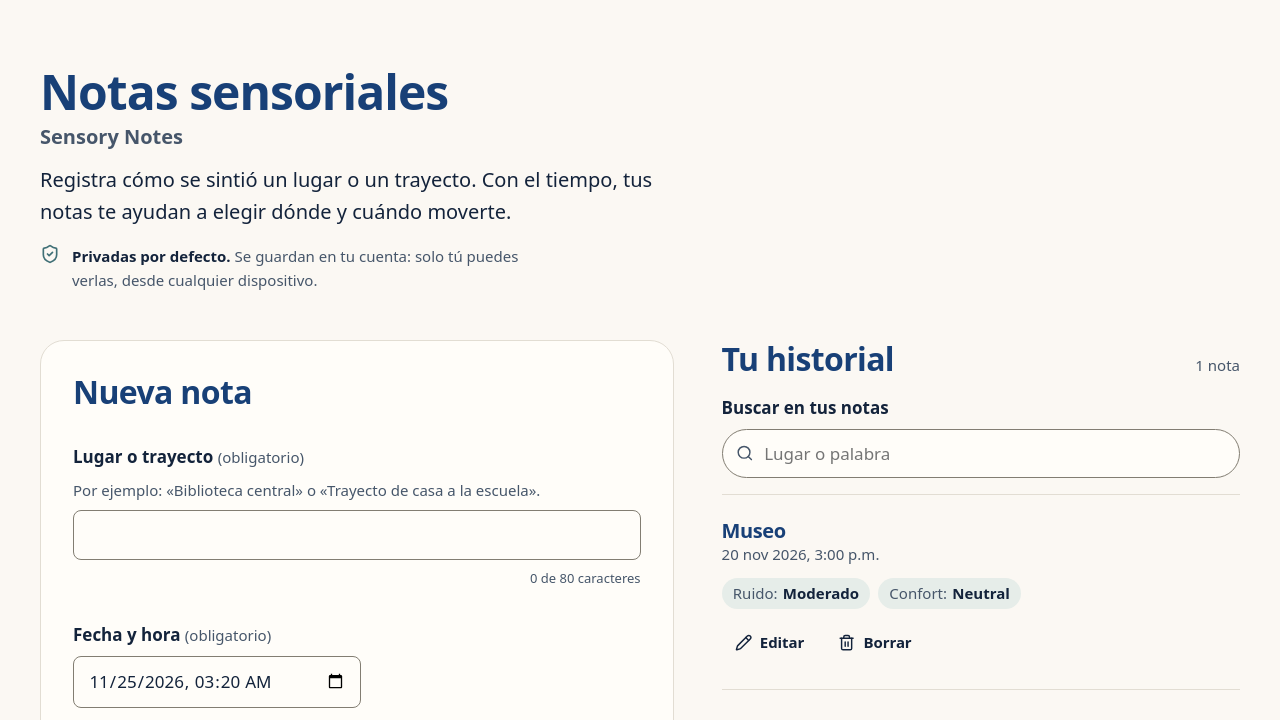
Test: Cuentas (API) › notas con sesión: editar envía PUT a la API
Click the button with aria-label "Editar la nota de Museo": (769,642) [722,620,817,664]
(page scrolled)
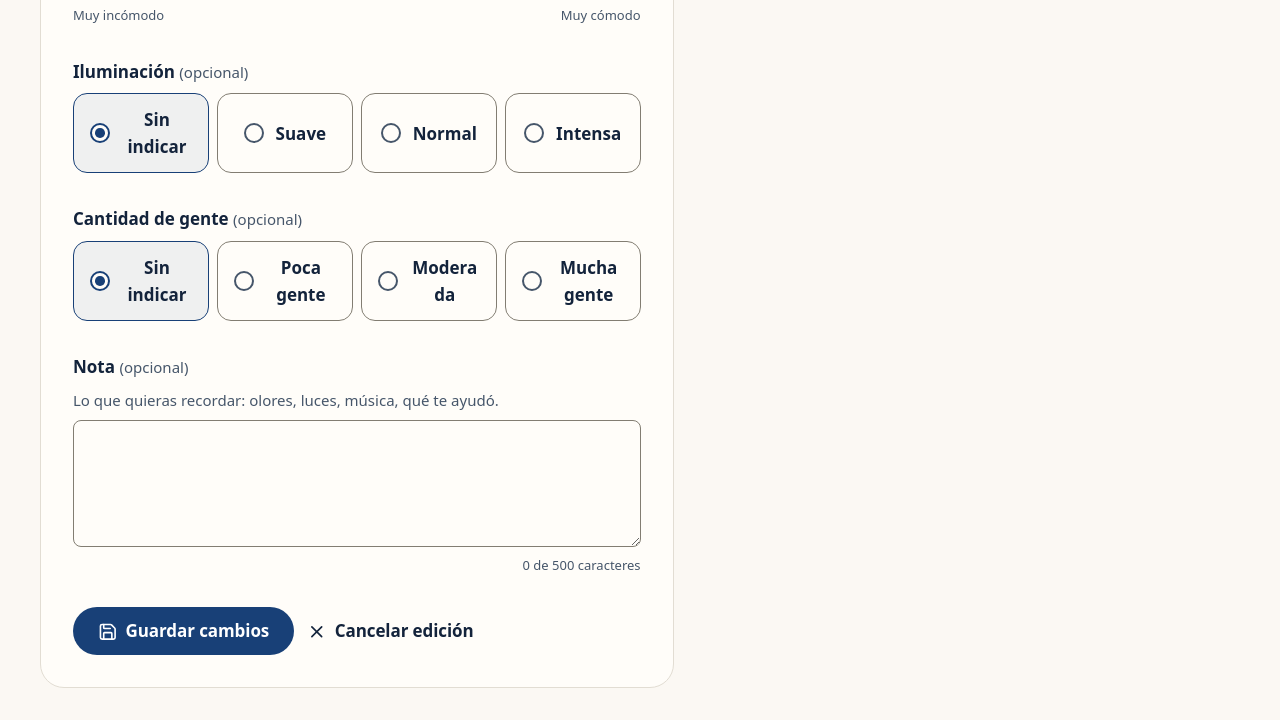
In the text box labelled "Nota (opcional)": (357,483) [73,420,641,546], type "Mucho eco"
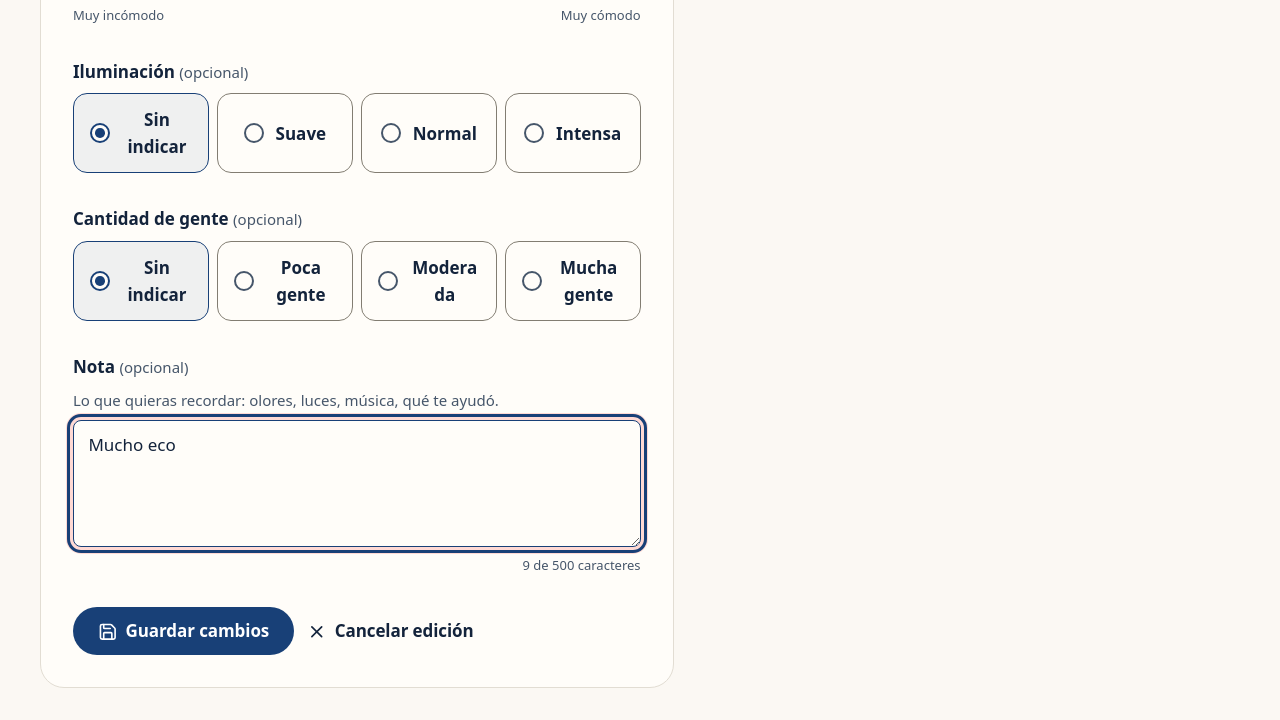
Click the button "Guardar cambios": (184,631) [73,607,294,655]
(page scrolled)
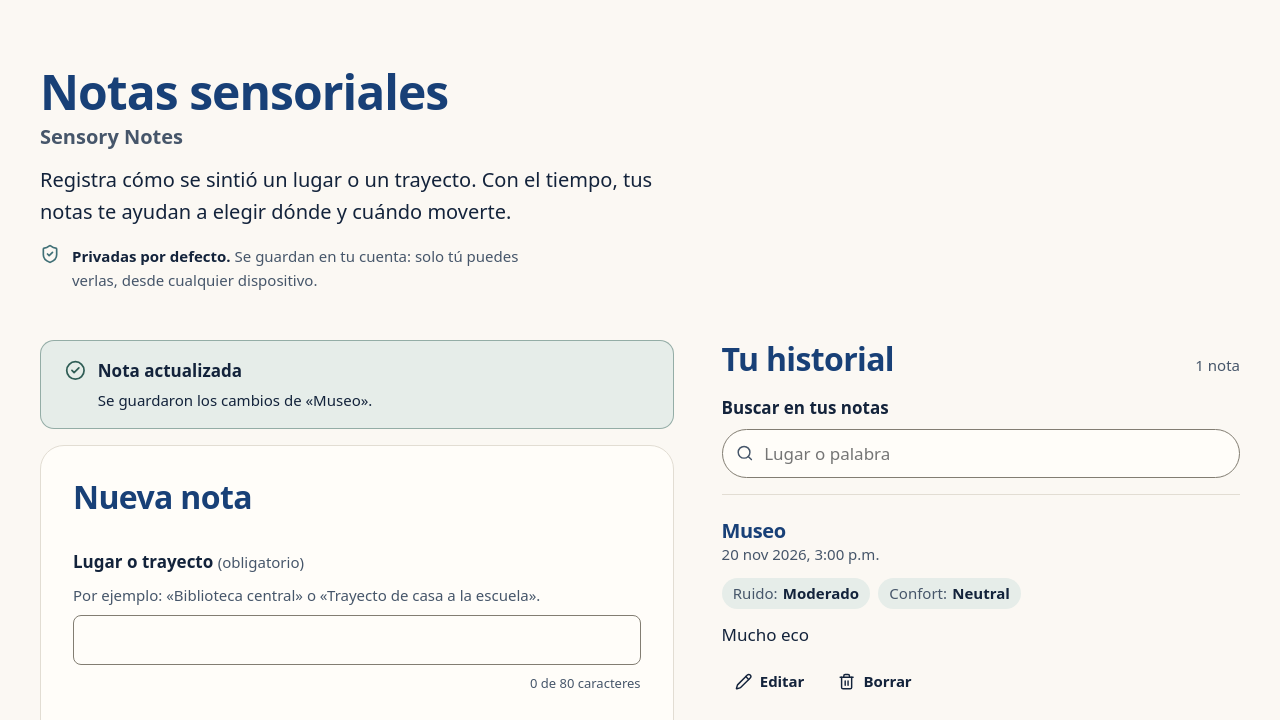
Now the text "Se guardaron los cambios de «Museo»." is shown, box [98,388,372,412]
